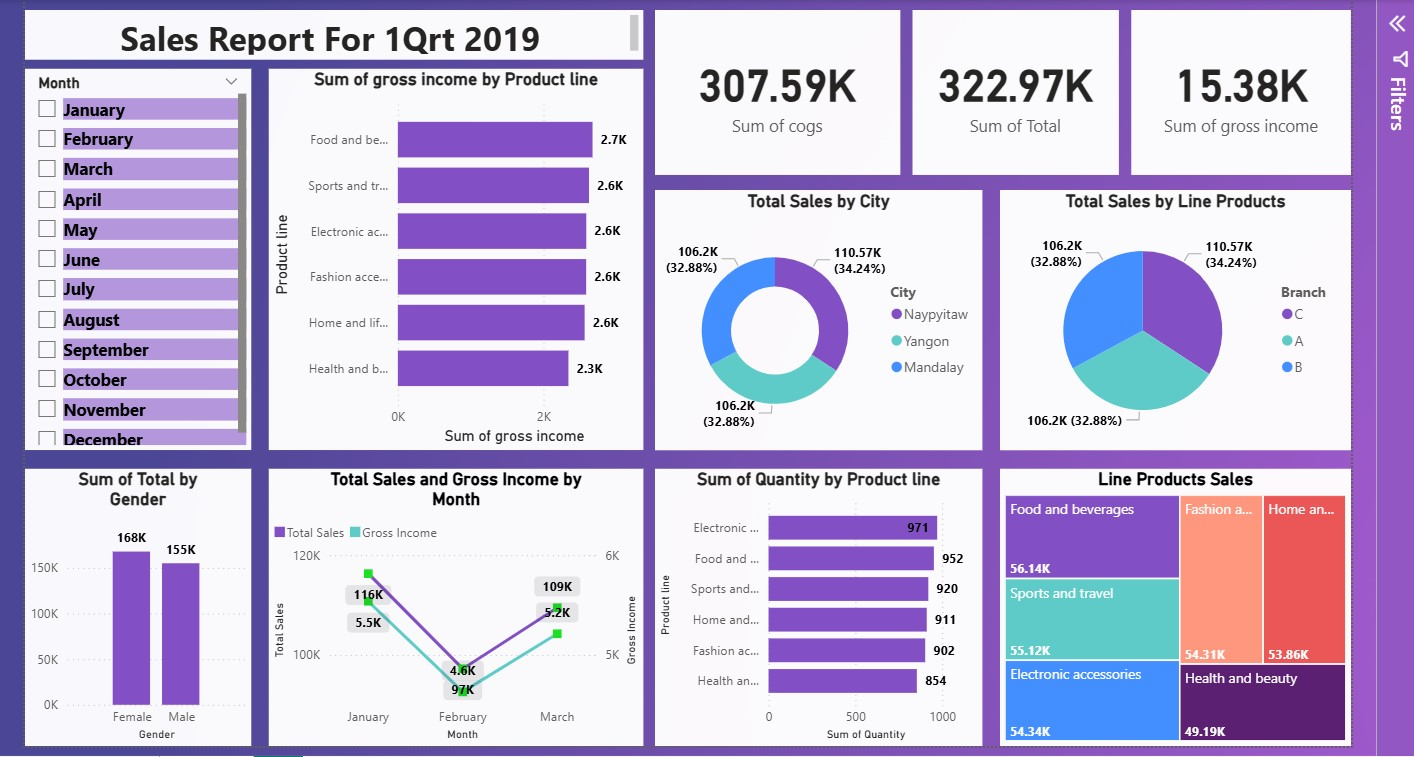

Layout of this report page (visuals, bound fields, positions):
{"tool":"powerbi","page":{"name":"Page 1","canvas":[1280,720],"ordinal":0},"visuals":[{"type":"card","fields":{"Values":["Sum(supermarket_sales - Sheet1.gross income)"]},"box":[1067.7,9.7,212.3,159.3],"z":0},{"type":"card","fields":{"Values":["Sum(supermarket_sales - Sheet1.Total)"]},"box":[856.6,9.7,199.1,159.3],"z":1000},{"type":"card","fields":{"Values":["Sum(supermarket_sales - Sheet1.cogs)"]},"box":[608,9.7,236.5,159.3],"z":2000},{"type":"pieChart","title":"Total Sales by Line Products","fields":{"Category":["supermarket_sales - Sheet1.Branch"],"Y":["Sum(supermarket_sales - Sheet1.Total)"]},"box":[941,183.4,339,250.9],"z":3000},{"type":"donutChart","title":"Total Sales by City","fields":{"Category":["supermarket_sales - Sheet1.City"],"Y":["Sum(supermarket_sales - Sheet1.Total)"]},"box":[608,183.4,316.1,250.9],"z":4000},{"type":"treemap","title":" Line Products Sales ","fields":{"Group":["supermarket_sales - Sheet1.Product line"],"Values":["Sum(supermarket_sales - Sheet1.Total)"]},"box":[941,452.4,339,267.8],"z":5000},{"type":"clusteredColumnChart","fields":{"Category":["supermarket_sales - Sheet1.Gender"],"Y":["Sum(supermarket_sales - Sheet1.Total)"]},"box":[0,452.4,218.4,267.8],"z":6000},{"type":"slicer","fields":{"Values":["supermarket_sales - Sheet1.Date.Variation.Date Hierarchy.Month"]},"box":[0,66.4,218.4,368],"z":7000},{"type":"lineChart","fields":{"Category":["supermarket_sales - Sheet1.Date.Variation.Date Hierarchy.Month"],"Y":["Sum(supermarket_sales - Sheet1.Total)"],"Y2":["Sum(supermarket_sales - Sheet1.gross income)"]},"box":[235.3,452.4,361.9,267.8],"z":8000},{"type":"clusteredBarChart","fields":{"Category":["supermarket_sales - Sheet1.Product line"],"Y":["Sum(supermarket_sales - Sheet1.gross income)"]},"box":[235.3,66.4,361.9,368],"z":9000},{"type":"clusteredBarChart","fields":{"Category":["supermarket_sales - Sheet1.Product line"],"Y":["Sum(supermarket_sales - Sheet1.Quantity)"]},"box":[608,452.4,316.1,267.8],"z":10000},{"type":"textbox","box":[0,9.7,597.2,48.3],"z":11000}]}

Visuals, with their boxes in screenshot pixels (x1, y1, x2, y2):
card - Sum(supermarket_sales - Sheet1.gross income): detection(1128, 6, 1348, 172)
card - Sum(supermarket_sales - Sheet1.Total): detection(908, 6, 1115, 172)
card - Sum(supermarket_sales - Sheet1.cogs): detection(650, 6, 896, 172)
"Total Sales by Line Products" pieChart: detection(996, 187, 1348, 448)
"Total Sales by City" donutChart: detection(650, 187, 979, 448)
" Line Products Sales " treemap: detection(996, 466, 1348, 745)
clusteredColumnChart - supermarket_sales - Sheet1.Gender x Sum(supermarket_sales - Sheet1.Total): detection(18, 466, 245, 745)
slicer - supermarket_sales - Sheet1.Date.Variation.Date Hierarchy.Month: detection(18, 65, 245, 448)
lineChart - supermarket_sales - Sheet1.Date.Variation.Date Hierarchy.Month x Sum(supermarket_sales - Sheet1.Total): detection(263, 466, 639, 745)
clusteredBarChart - supermarket_sales - Sheet1.Product line x Sum(supermarket_sales - Sheet1.gross income): detection(263, 65, 639, 448)
clusteredBarChart - supermarket_sales - Sheet1.Product line x Sum(supermarket_sales - Sheet1.Quantity): detection(650, 466, 979, 745)
textbox: detection(18, 6, 639, 57)
